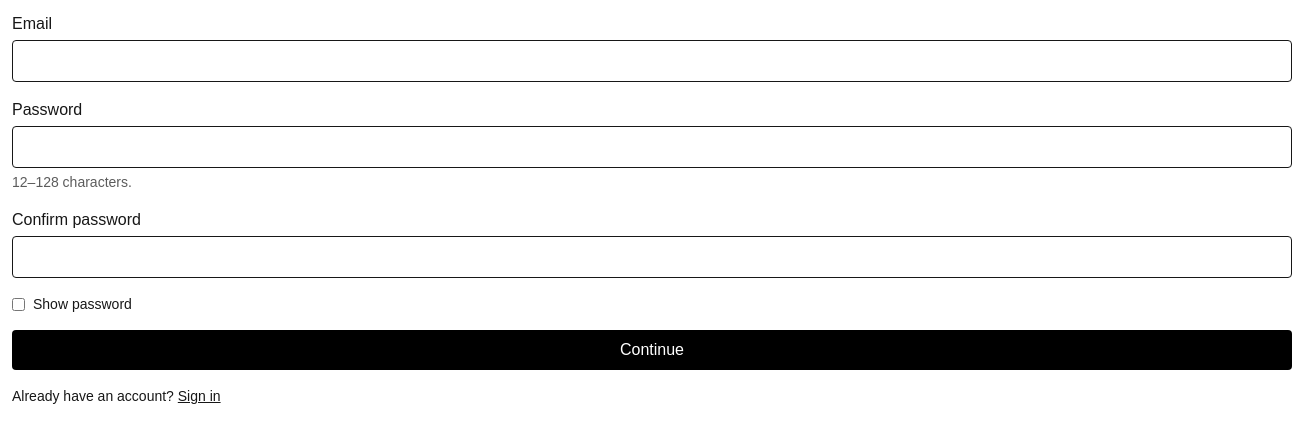
Test: SignUpForm Component › moves to the username step when the passwords match
Type "sam@example.com" into the field labelled "Email" at (652, 61), box [12, 40, 1292, 82]
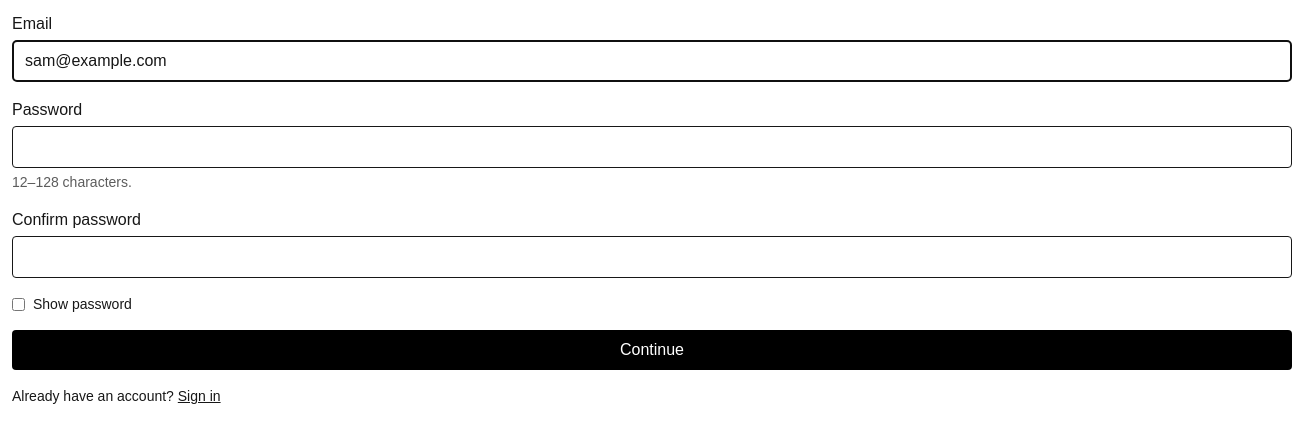
Type "correct horse battery" into the password field labelled "Password" at (652, 147), box [12, 126, 1292, 168]
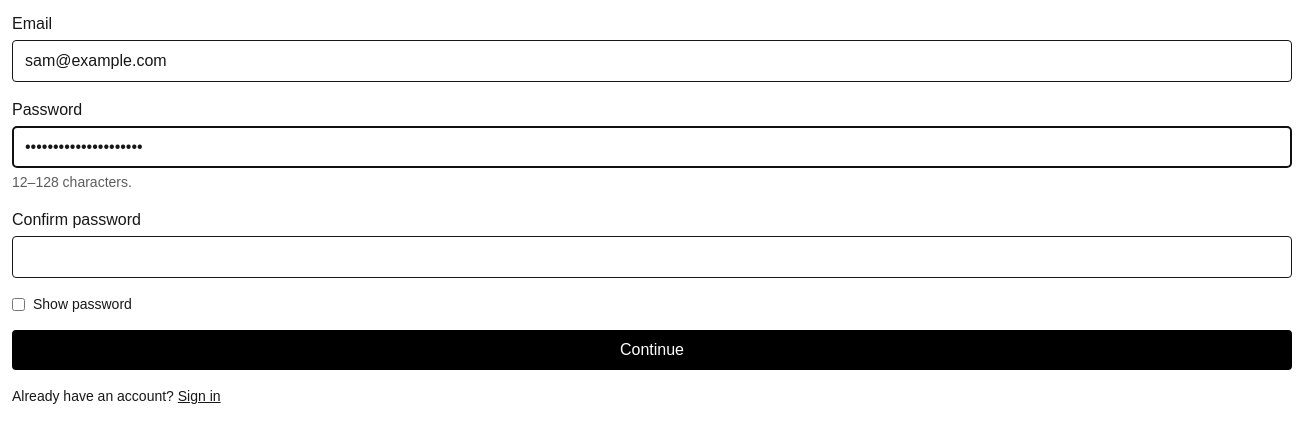
Type "correct horse battery" into the password field labelled "Confirm password" at (652, 257), box [12, 236, 1292, 278]
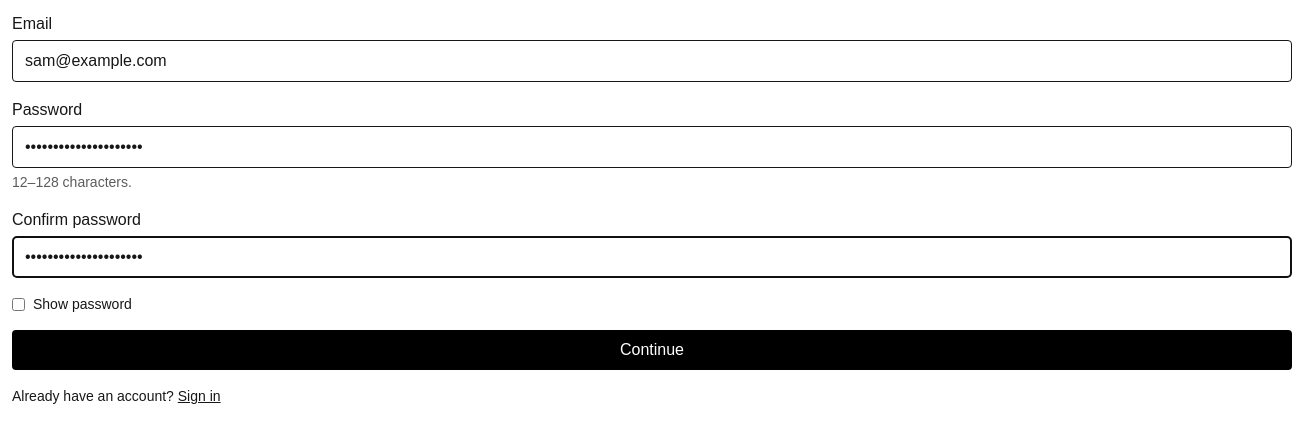
Click the button "Continue" at (652, 350), box [12, 330, 1292, 370]
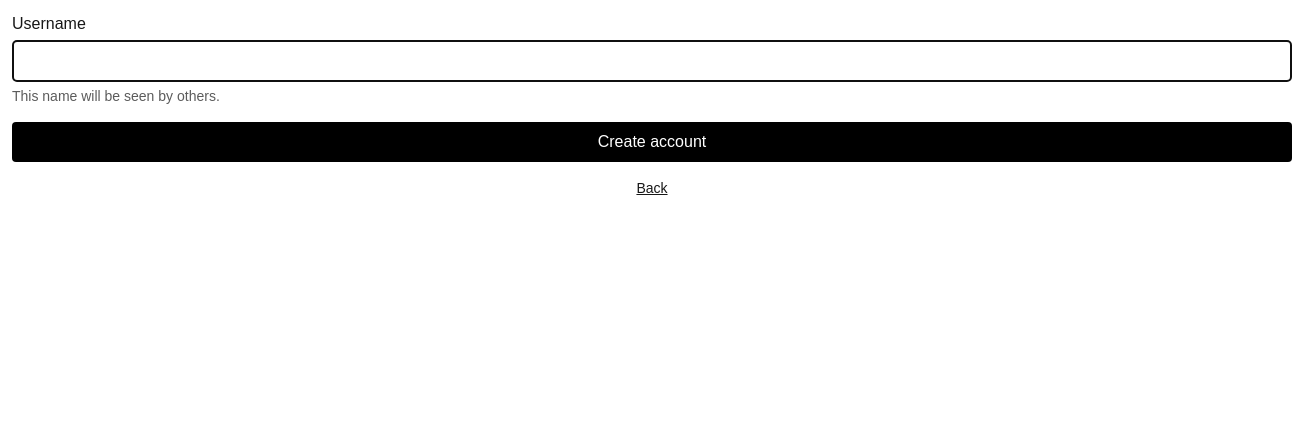
Expected: the field labelled "Username" is shown, [12, 40, 1292, 82]
Expected: the text "This name will be seen by others." is shown, [12, 88, 220, 104]
